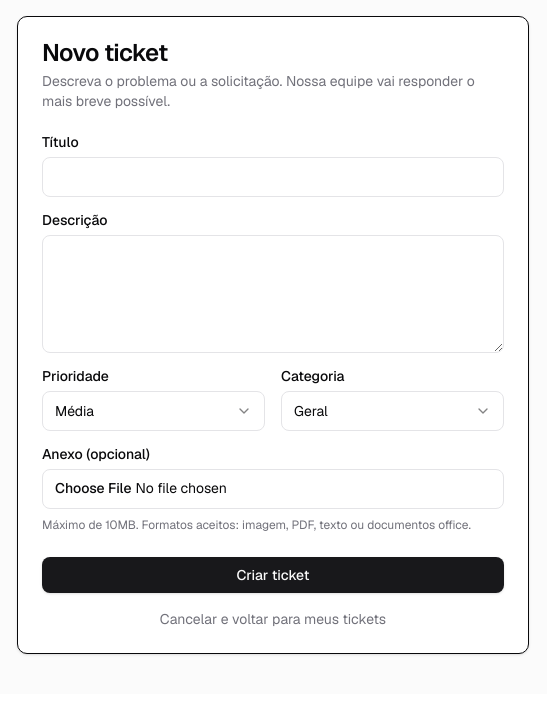
NovoTicketPage (SPEC-06) › exibe erro de validação quando a descrição está vazia, sem submeter
The image size is (547, 701).
Type "Título válido" into the field labelled "Título".
click(273, 177); type("Título válido")  # box [42,157,504,197]
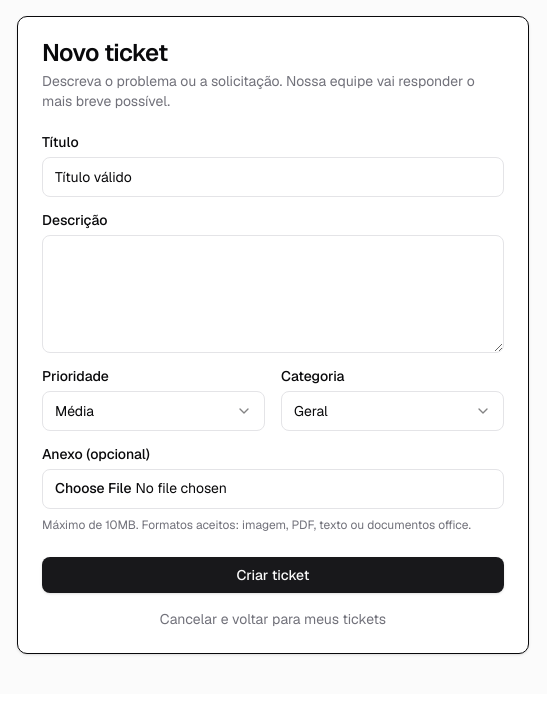
Click the button "Criar ticket".
click(273, 575)  # box [42,557,504,593]
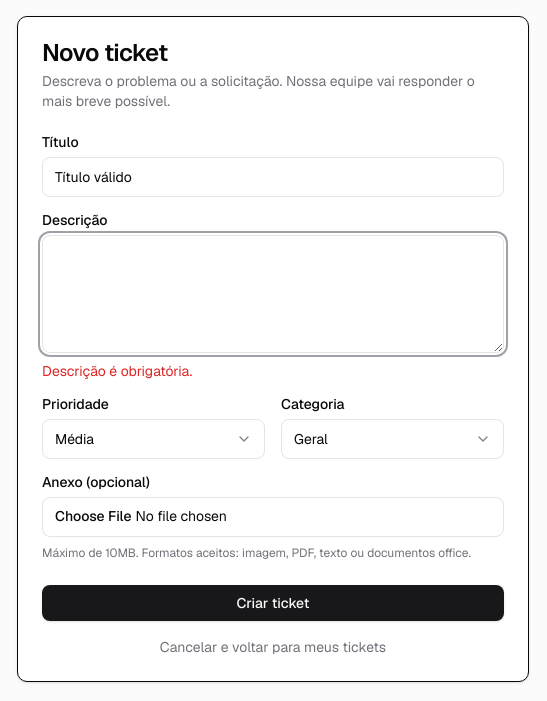
Expected: the message shows "Descrição é obrigatória", [42,362,192,380]
